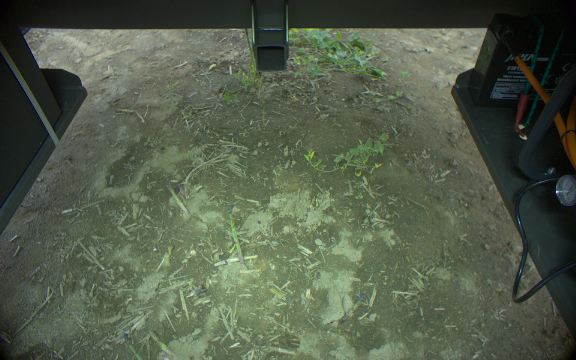aspa: (225, 202, 247, 266), (164, 181, 190, 218), (339, 292, 364, 324), (244, 29, 256, 77), (123, 331, 142, 360), (175, 180, 186, 200)
